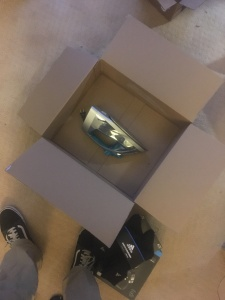innerbox: (59, 73, 181, 197)
outerbox: (28, 36, 225, 234)
product: (81, 103, 151, 162)
